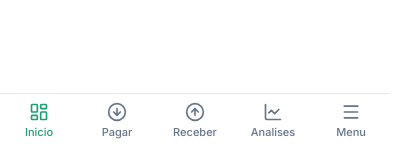
Test case: BottomNav - navegacao inferior mobile › permite acessar Relatorios e Analise Gerencial a partir de Analises, sem eliminar nenhuma das duas
Click the button "Analises" at (273,122), box [234,94,312,148]
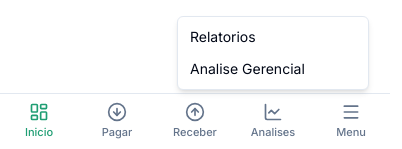
Now the menu item "Relatorios" is shown, box [190,28,256,45]
Now the menu item "Analise Gerencial" is shown, box [190,60,305,77]
